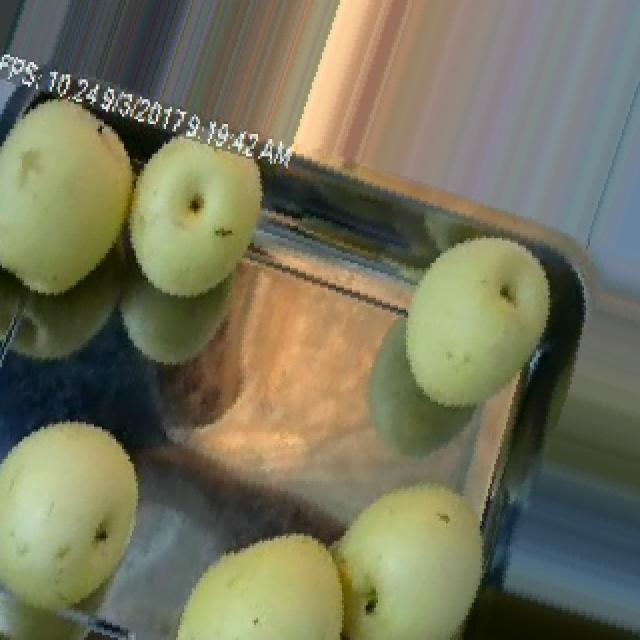Fruit: (128, 216, 452, 583), (268, 0, 576, 243), (378, 211, 580, 436), (308, 449, 534, 640), (0, 72, 162, 322), (102, 107, 288, 320), (0, 402, 162, 640), (152, 503, 382, 640)
